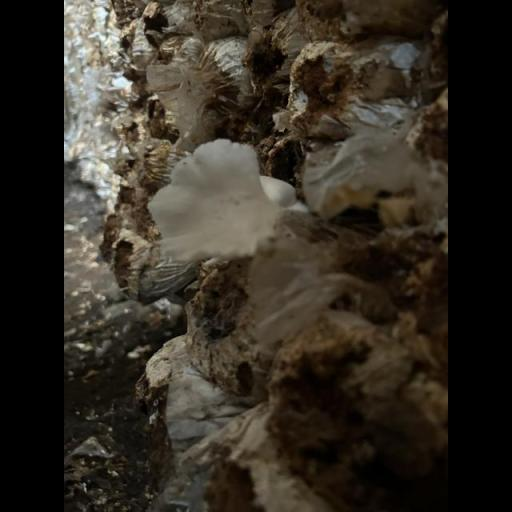White Oyster Mushroom: (135, 138, 296, 268)
